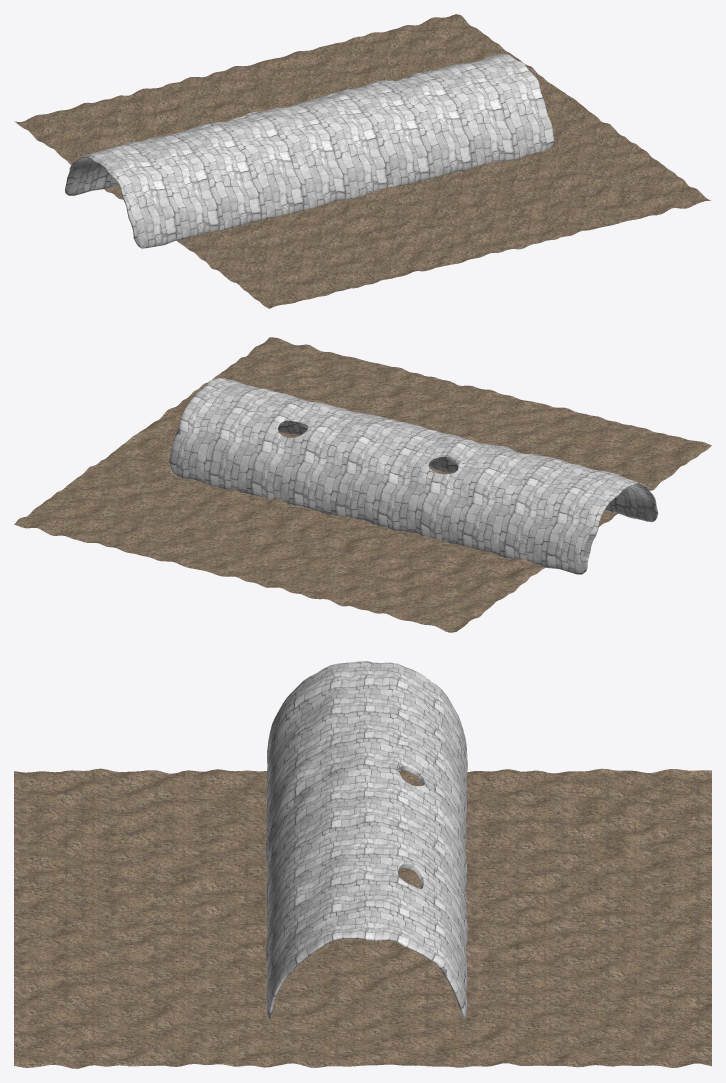
Rendered from WheelCartFbx.FBX.
3 renders of one model, top to bottom at view 1: azimuth 30°, elevation 25°; view 2: azimuth 150°, elevation 25°; view 3: azimuth 270°, elevation 25°, orthographic. The views are drawn at different scales.
Parts seen in each view (by area): view 1: Plane001, Cylinder001; view 2: Plane001, Cylinder001; view 3: Plane001, Cylinder001.
Part boxes in pixels (x1=…): Plane001: x1=14, y1=14, x2=710, y2=308; Cylinder001: x1=65, y1=54, x2=554, y2=248; Plane001: x1=14, y1=337, x2=711, y2=632; Cylinder001: x1=169, y1=378, x2=658, y2=574; Plane001: x1=14, y1=768, x2=711, y2=1068; Cylinder001: x1=265, y1=661, x2=467, y2=1019.
Size of the model in its own units: 1725 by 238 by 1575.
Materials: 5 (2 with a texture image).
